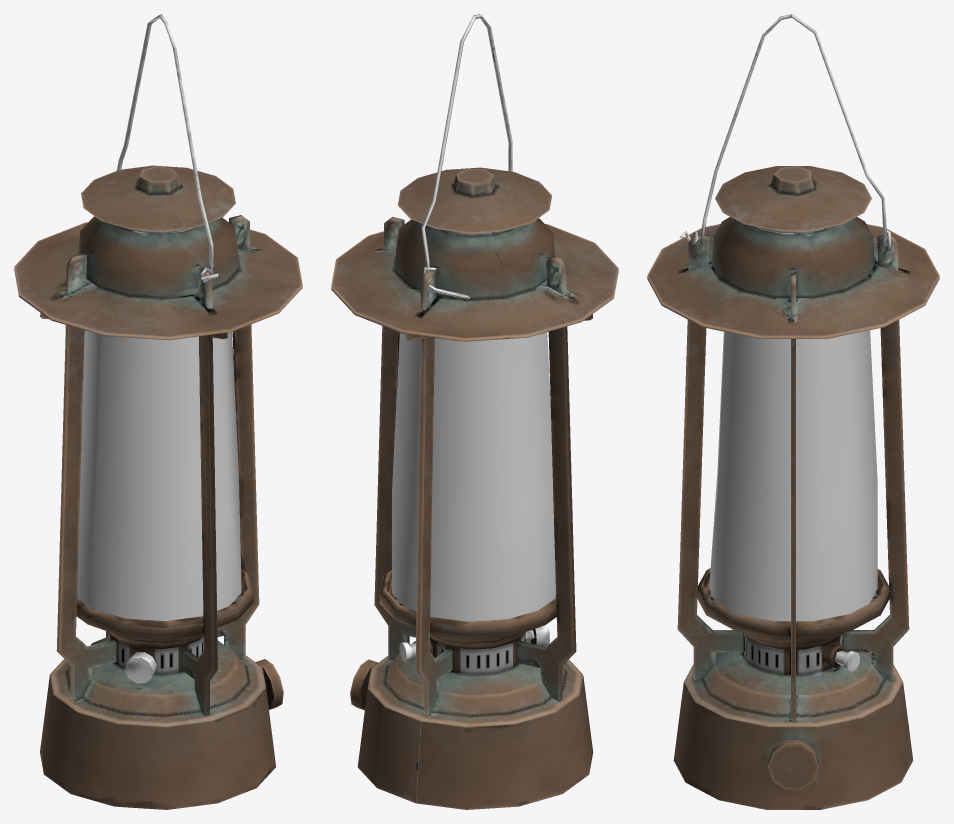
Rendered from StormLantern_01_LOD1.fbx.
3 views of the same model, side by side, from view 1: azimuth 30°, elevation 25°; view 2: azimuth 150°, elevation 25°; view 3: azimuth 270°, elevation 25° (orthographic).
Parts seen in each view (by area): view 1: StormLantern_01_LOD1; view 2: StormLantern_01_LOD1; view 3: StormLantern_01_LOD1.
Part boxes in pixels (box(x1,y1,x2,y2)): StormLantern_01_LOD1: box(14, 14, 302, 809); StormLantern_01_LOD1: box(331, 14, 618, 809); StormLantern_01_LOD1: box(647, 14, 939, 809).
Bounding box in the file's own units: 262 × 758 × 269.
